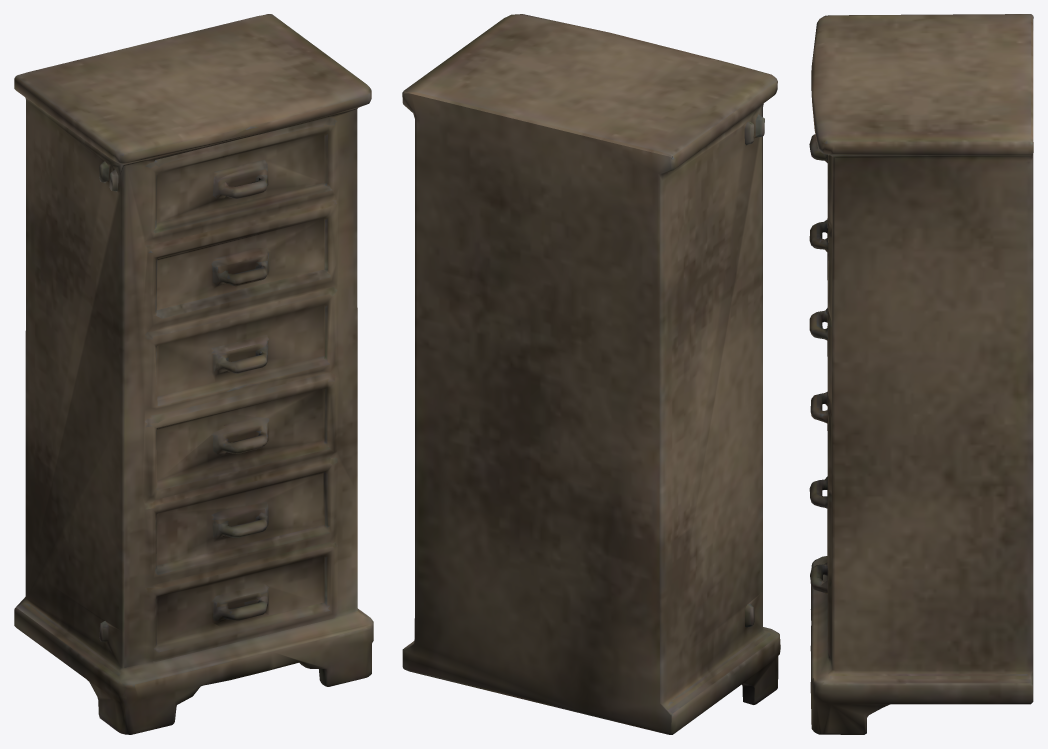
The model's file is weathered-wood-filing-cabinet-v001.glb.
The picture shows the model from 3 angles, left to right: view 1: azimuth 30°, elevation 25°; view 2: azimuth 150°, elevation 25°; view 3: azimuth 270°, elevation 25°; orthographic projection. The views are drawn at different scales.
Visible parts, largest first — view 1: weathered-wood-filing-cabinet; view 2: weathered-wood-filing-cabinet; view 3: weathered-wood-filing-cabinet.
Part boxes in pixels (x1=…): weathered-wood-filing-cabinet: x1=14, y1=14, x2=373, y2=734; weathered-wood-filing-cabinet: x1=402, y1=14, x2=780, y2=734; weathered-wood-filing-cabinet: x1=809, y1=14, x2=1033, y2=734.
Size of the model in its own units: 0.6623 by 1.43 by 0.4856.
Materials: 1 (1 with a texture image).
